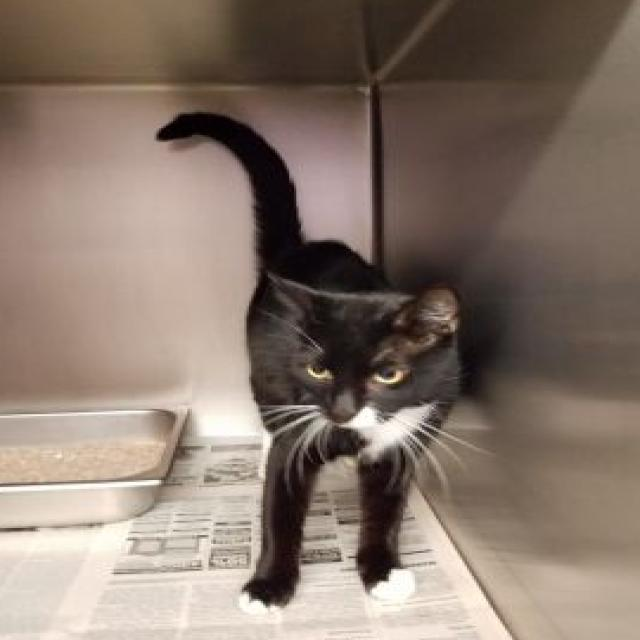Tuxedo: (152, 106, 470, 621)
